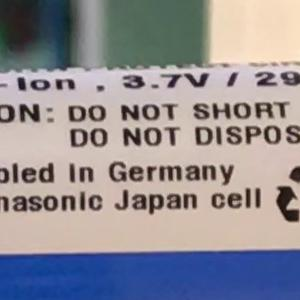keyword: (113, 54, 222, 99)
